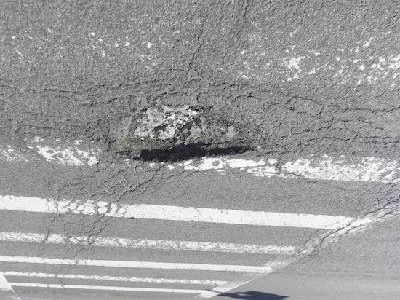pothole: (88, 100, 266, 166)
